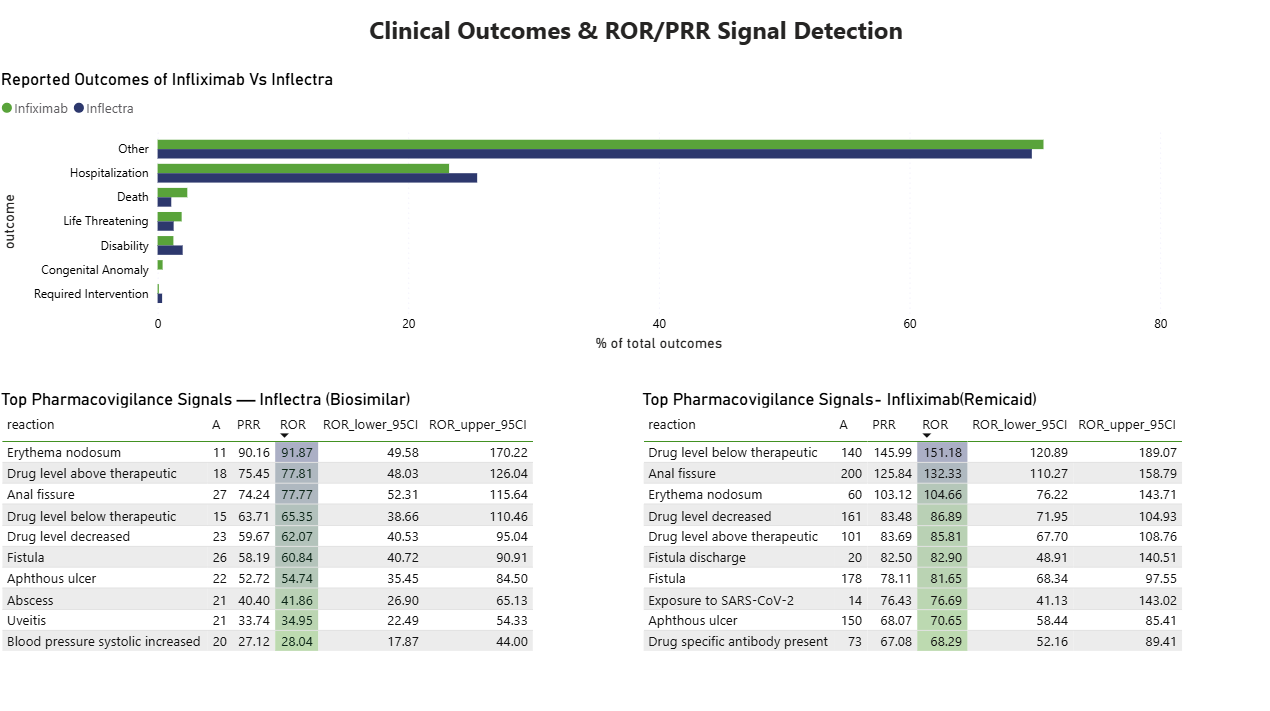

This screenshot's page, from the dashboard's own definition file:
{"tool":"powerbi","page":{"name":"OUTCOMES & SIGNAL","canvas":[1280,720],"ordinal":3},"visuals":[{"type":"clusteredBarChart","title":"Reported Outcomes of Infliximab Vs Inflectra","fields":{"Category":["outc_comparison.outcome"],"Y":["Sum(outc_comparison.originator_pct)","Sum(outc_comparison.biosimilar_pct)"]},"box":[0,72.1,1176.4,287.4],"z":0},{"type":"tableEx","title":"Top Pharmacovigilance Signals — Inflectra (Biosimilar)","fields":{"Values":["signals_biosimilar.reaction","signals_biosimilar.A","signals_biosimilar.PRR","signals_biosimilar.ROR","signals_biosimilar.ROR_lower_95CI","signals_biosimilar.ROR_upper_95CI"]},"box":[0,392.5,550.3,275.1],"z":1000},{"type":"tableEx","title":"Top Pharmacovigilance Signals- Infliximab(Remicaid)","fields":{"Values":["signals_originator.reaction","signals_originator.A","signals_originator.PRR","signals_originator.ROR","signals_originator.ROR_lower_95CI","signals_originator.ROR_upper_95CI"]},"box":[640.8,392.5,557.6,271.5],"z":2000},{"type":"textbox","box":[0,12.2,1280.3,56.3],"z":2001}]}

Visuals, with their boxes in screenshot pixels (x1, y1, x2, y2), scaled from the page's 1280x720 canvas onto the 1270x711 screenshot:
"Reported Outcomes of Infliximab Vs Inflectra" clusteredBarChart: 0/71/1167/355
"Top Pharmacovigilance Signals — Inflectra (Biosimilar)" tableEx: 0/388/546/659
"Top Pharmacovigilance Signals- Infliximab(Remicaid)" tableEx: 636/388/1189/656
textbox: 0/12/1269/68
